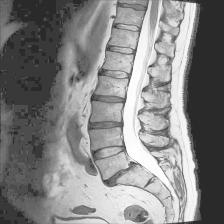disc: (105, 38, 141, 62), (88, 90, 128, 110), (97, 63, 131, 85), (117, 17, 143, 35)
hdisc: (96, 163, 150, 190), (87, 144, 131, 162), (86, 116, 124, 133)
